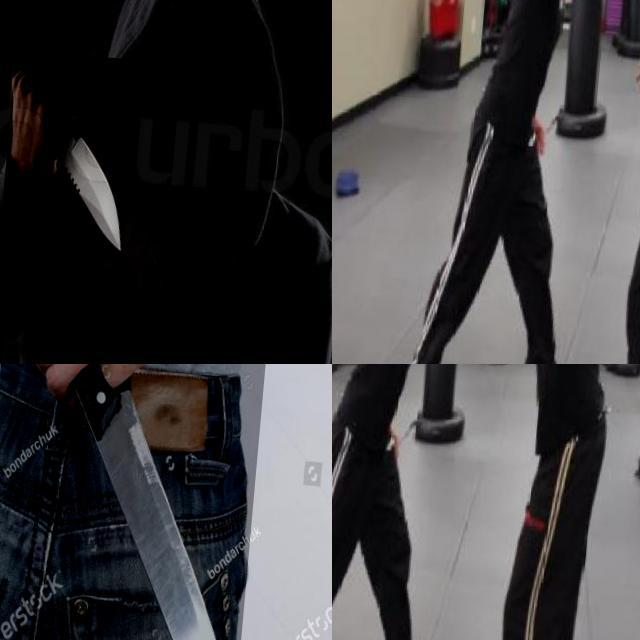-: (0, 364, 274, 640), (6, 48, 146, 256), (441, 364, 520, 401), (567, 0, 640, 35)
